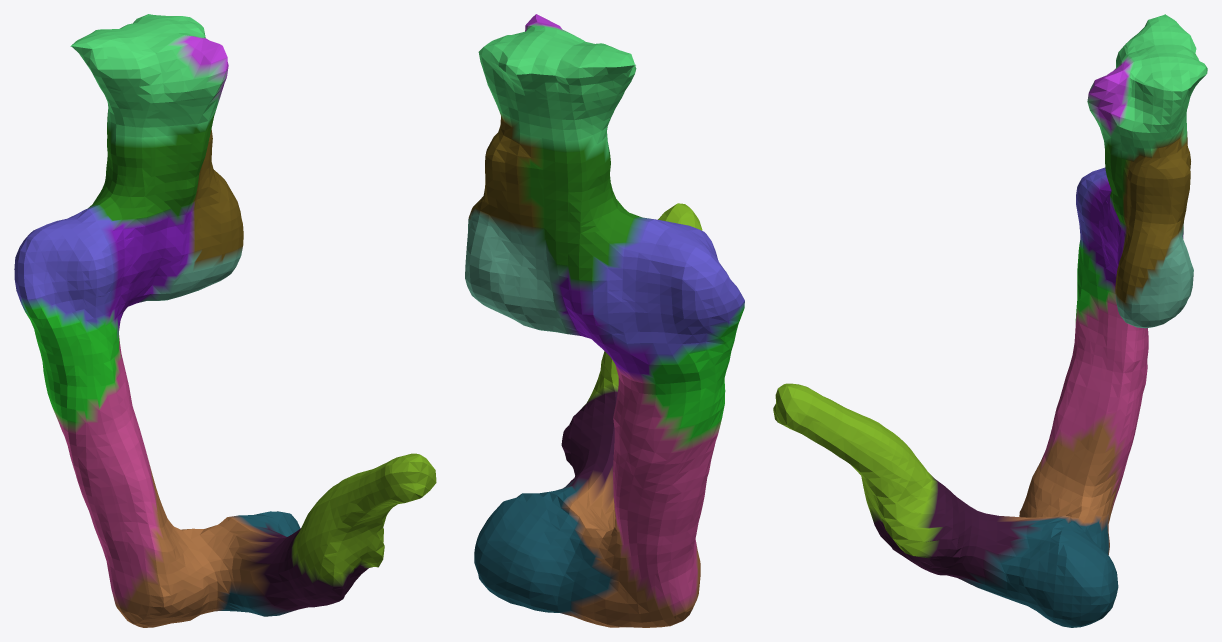
Rendered from fg-00070-geo-color.obj.
The picture shows the model from 3 angles, left to right: view 1: azimuth 30°, elevation 25°; view 2: azimuth 150°, elevation 25°; view 3: azimuth 270°, elevation 25°; orthographic projection. The views are drawn at different scales.
Size of the model in its own units: 0.1275 by 0.2655 by 0.1921.
